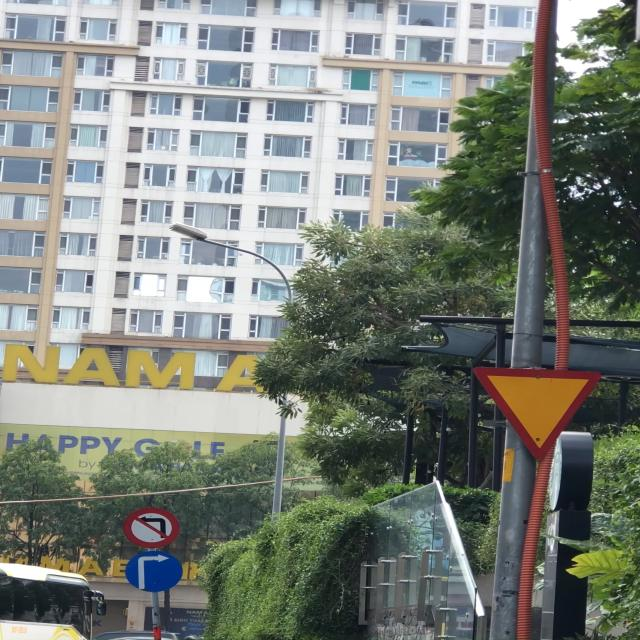Bien bao cam re trai: (121, 505, 185, 550)
Bien bao giao nhau voi duong uu tien: (466, 361, 608, 464)
Bien bao huong di phai theo: (123, 550, 187, 596)
